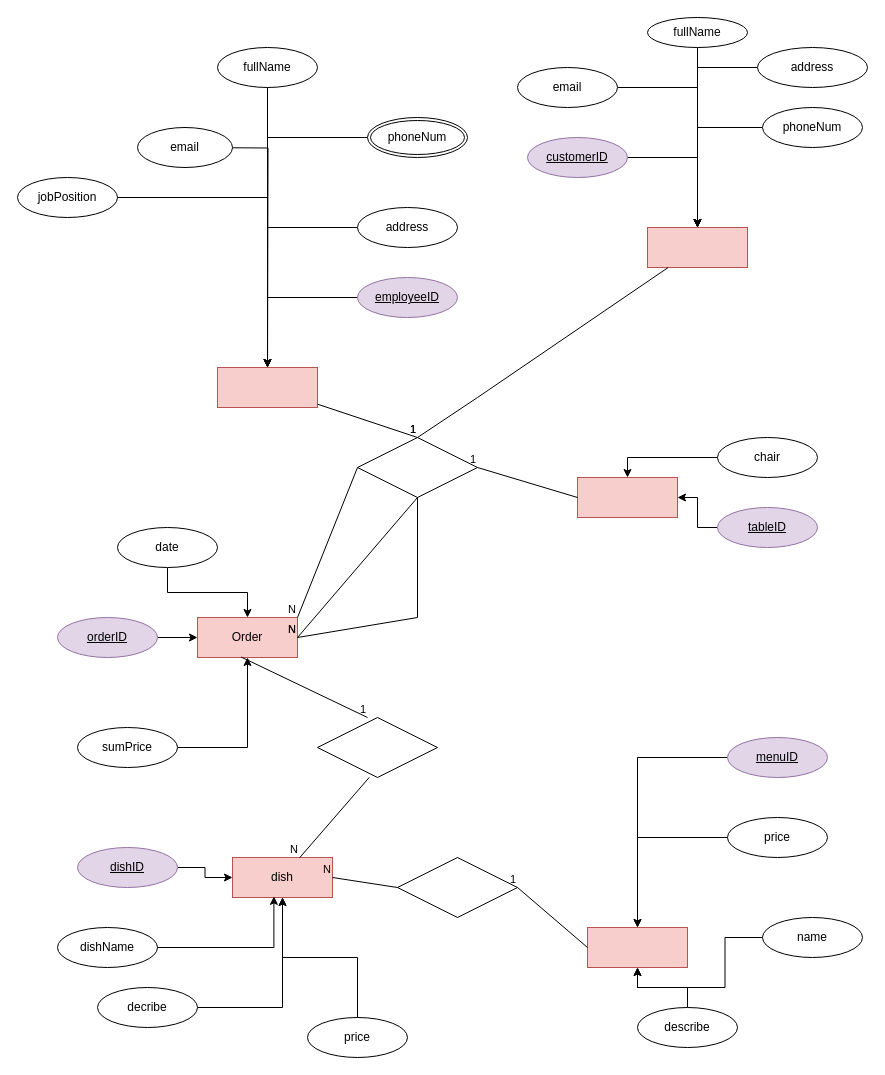
This 885x1075 diagram has some shape labels left out. The shapes that lost their labels are listed below. From the top down, each one's centre as x and y in pixels, then its label:
(x=697, y=247): Customer
(x=267, y=387): employee
(x=417, y=467): booking
(x=627, y=497): Table
(x=377, y=747): eat
(x=457, y=887): meal
(x=637, y=947): menu
